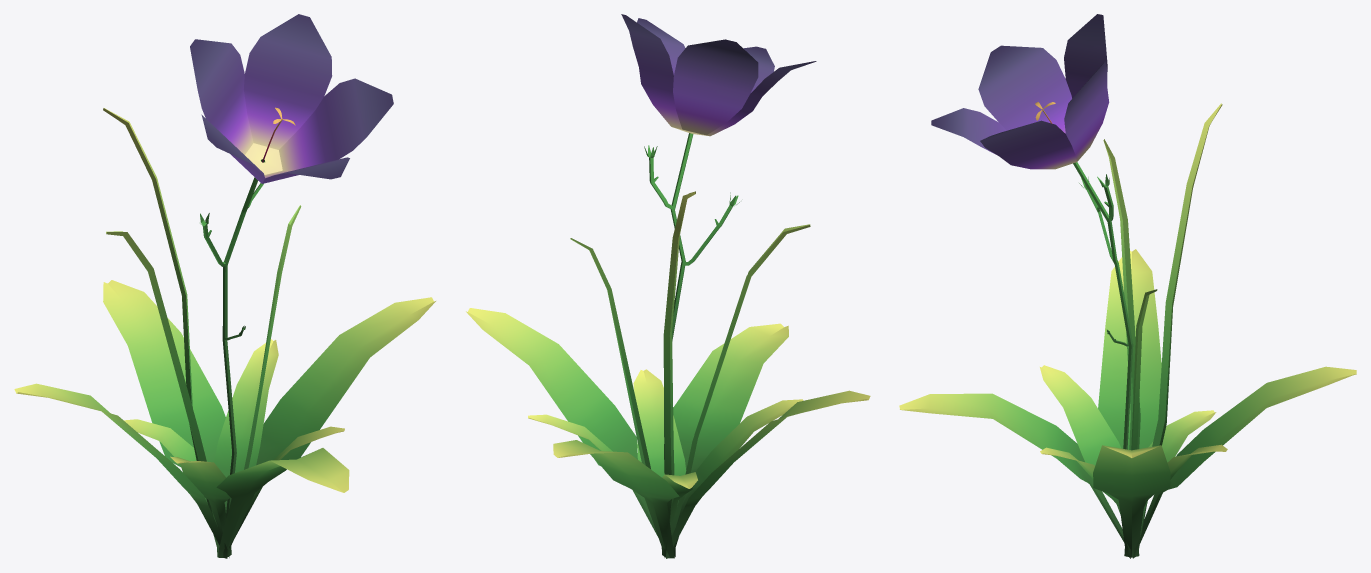
3 views of the same model, side by side, from view 1: azimuth 30°, elevation 25°; view 2: azimuth 150°, elevation 25°; view 3: azimuth 270°, elevation 25° (orthographic). The views are drawn at different scales.
Parts seen in each view (by area): view 1: Flower05_0; view 2: Flower05_0; view 3: Flower05_0.
Boxes of the visible parts, x1=… form: Flower05_0: x1=14, y1=14, x2=435, y2=558; Flower05_0: x1=466, y1=14, x2=870, y2=558; Flower05_0: x1=899, y1=14, x2=1356, y2=558.
Bounding box in the file's own units: 0.2055 × 0.2534 × 0.2018.
1 material, 1 textured.
